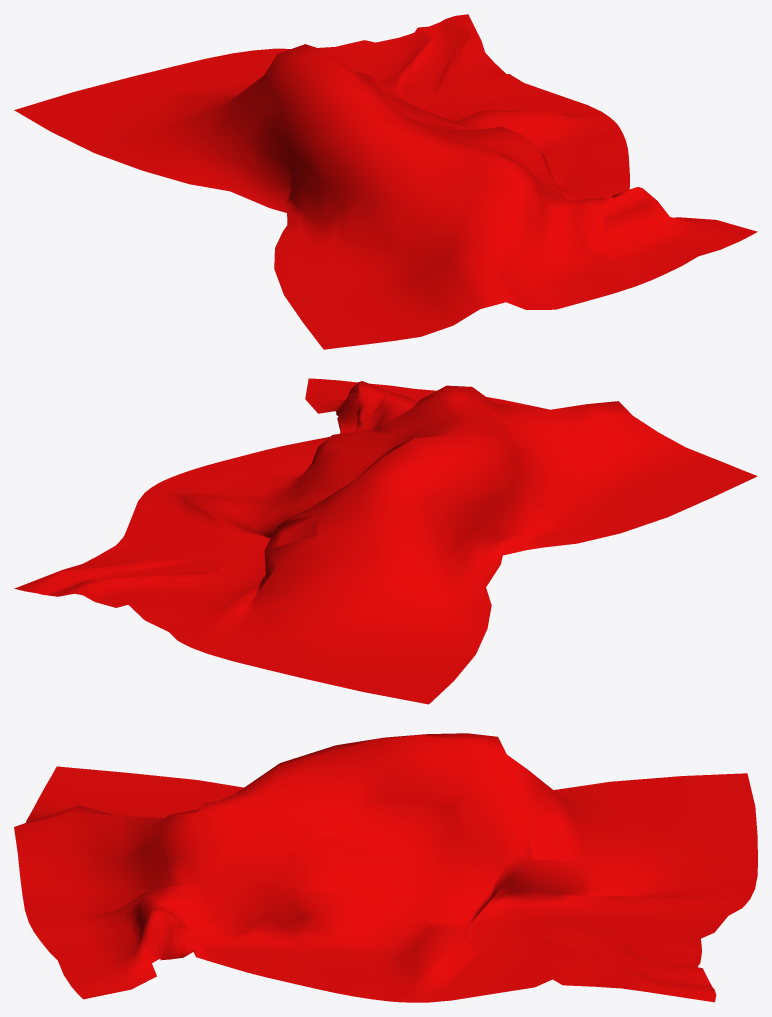
File: Corps_Low_ouvert_01.fbx
The picture shows the model from 3 angles, top to bottom: view 1: azimuth 30°, elevation 25°; view 2: azimuth 150°, elevation 25°; view 3: azimuth 270°, elevation 25°; orthographic projection. The views are drawn at different scales.
Visible parts, largest first — view 1: Corps_low_ouvert_01; view 2: Corps_low_ouvert_01; view 3: Corps_low_ouvert_01.
Boxes of the visible parts, <box> form: Corps_low_ouvert_01: <box>14,14,757,349</box>; Corps_low_ouvert_01: <box>14,378,757,704</box>; Corps_low_ouvert_01: <box>14,733,757,1002</box>.
Bounding box in the file's own units: 1.68 × 0.4154 × 2.23.
